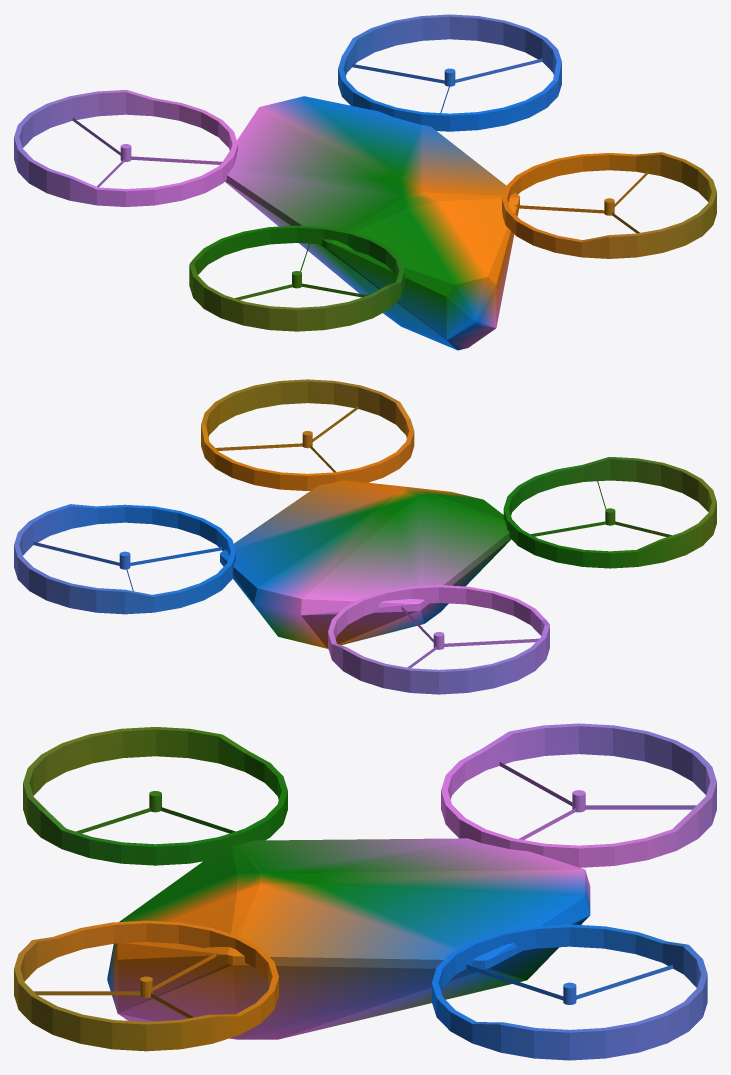
Rendered from drone.dae.
3 renders of one model, top to bottom at view 1: azimuth 30°, elevation 25°; view 2: azimuth 150°, elevation 25°; view 3: azimuth 270°, elevation 25°, orthographic. The views are drawn at different scales.
Parts seen in each view (by area): view 1: node; view 2: node; view 3: node.
Boxes of the visible parts, x1,y1,x2,y2 form: node: [14, 14, 716, 350]; node: [14, 379, 716, 694]; node: [14, 723, 716, 1060].
Size of the model in its own units: 1 by 0.226 by 0.9608.
1 material, 1 textured.
